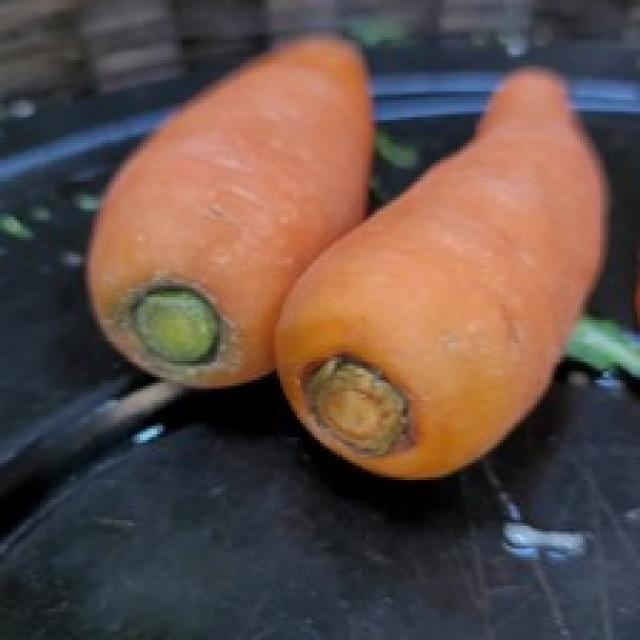carrot: (272, 64, 614, 481), (85, 34, 378, 386)
